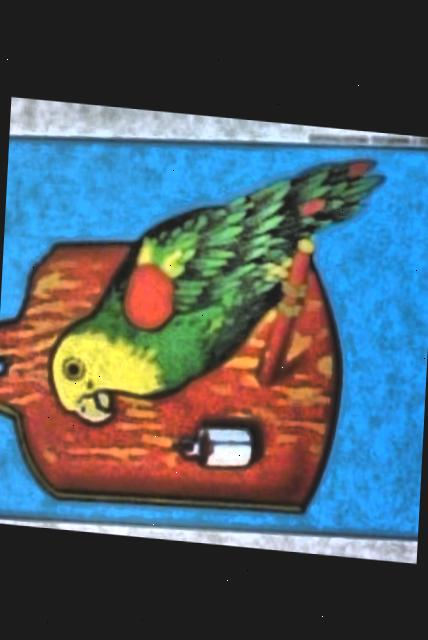El Cotorro: (0, 134, 428, 524)
